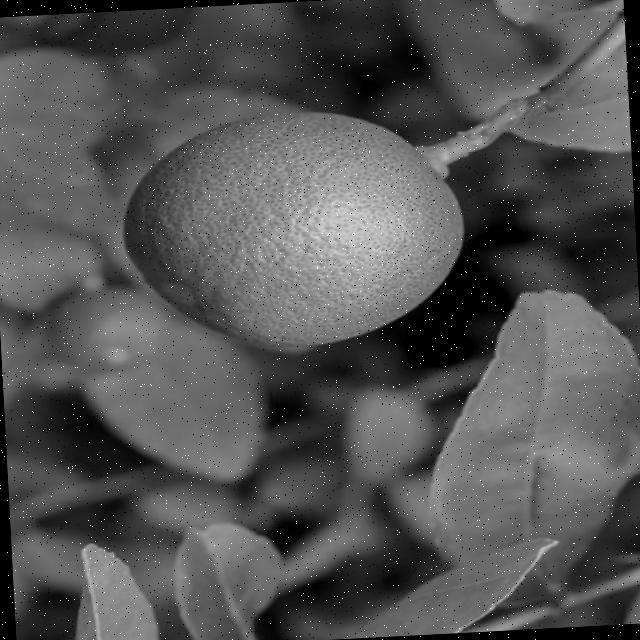Unripe: (118, 103, 474, 354)
